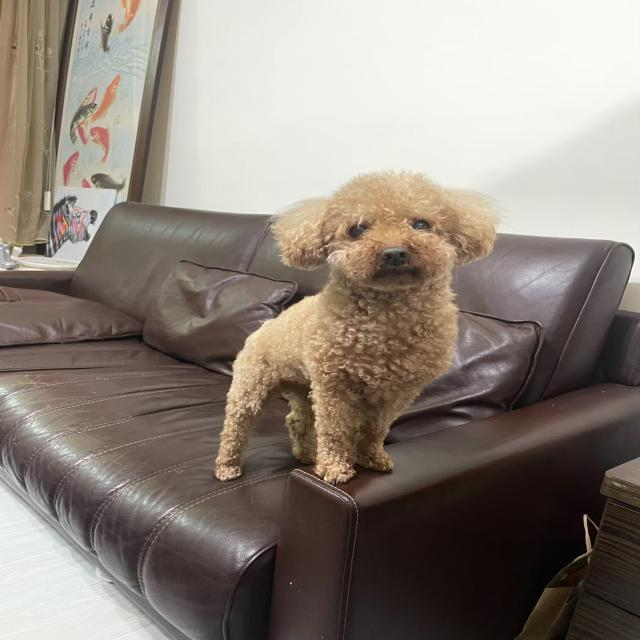adult_dog: (214, 170, 507, 485)
